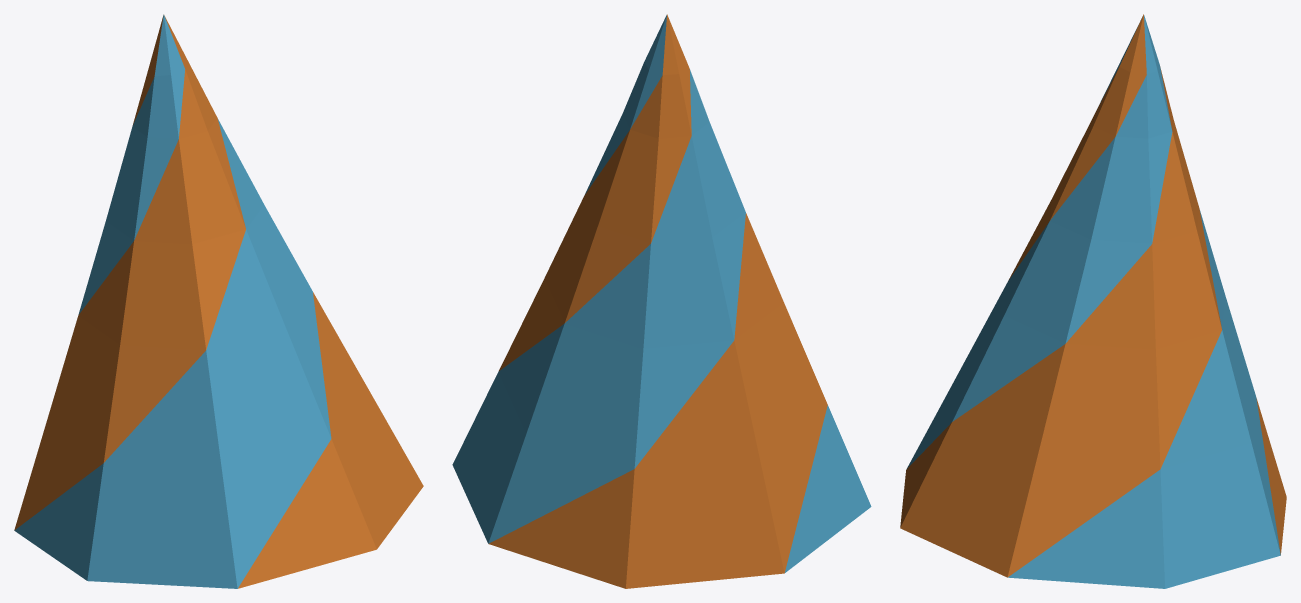
Rendered from PartyHat.fbx.
3 renders of one model, left to right at view 1: azimuth 30°, elevation 25°; view 2: azimuth 150°, elevation 25°; view 3: azimuth 270°, elevation 25°, orthographic. The views are drawn at different scales.
Parts seen in each view (by area): view 1: PartyHat; view 2: PartyHat; view 3: PartyHat.
Boxes of the visible parts, <box> form: PartyHat: <box>14,14,423,588</box>; PartyHat: <box>452,14,871,588</box>; PartyHat: <box>900,14,1286,588</box>.
Bounding box in the file's own units: 1.99 × 2.82 × 1.99.
